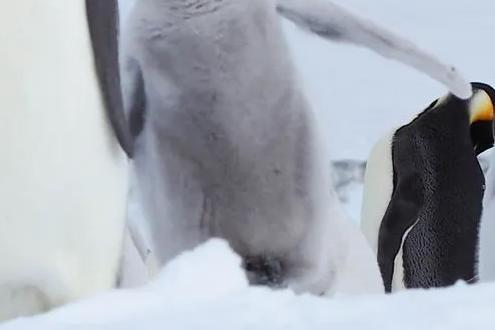Emperor Penguin: (0, 0, 145, 328)
